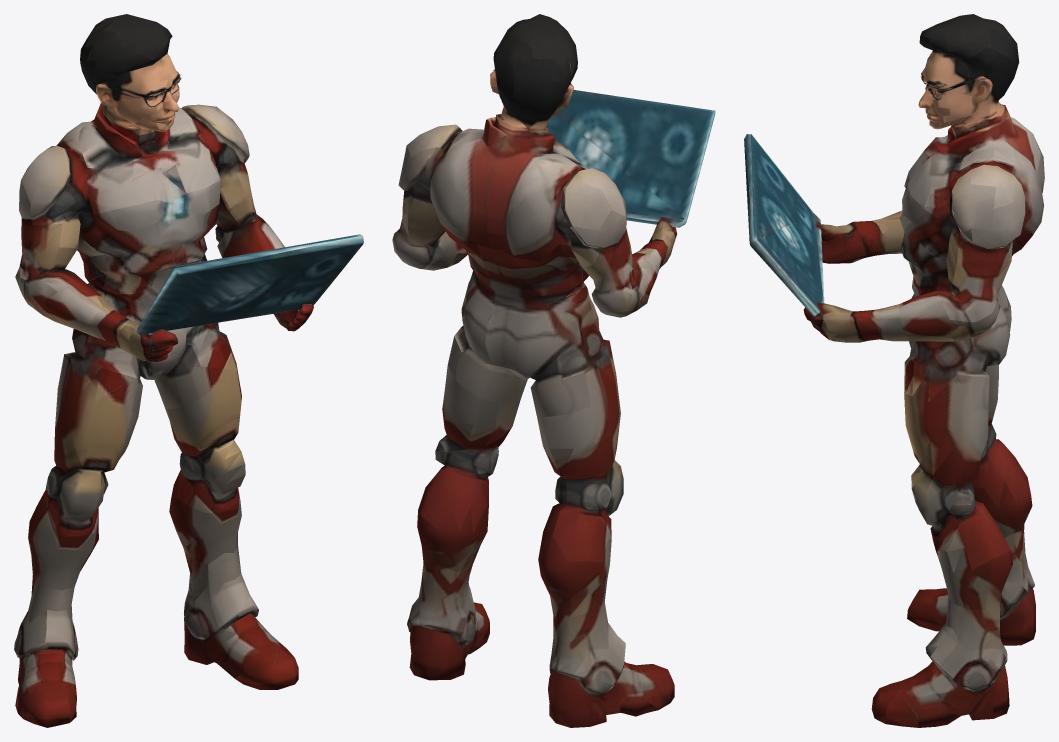
File: iron_เต้.glb
3 views of the same model, side by side, from view 1: azimuth 30°, elevation 25°; view 2: azimuth 150°, elevation 25°; view 3: azimuth 270°, elevation 25° (orthographic). The views are drawn at different scales.
Visible parts, largest first — view 1: mesh_node; view 2: mesh_node; view 3: mesh_node.
Part boxes in pixels (box(x1,y1,x2,y2)): mesh_node: box(14, 14, 363, 727); mesh_node: box(392, 14, 715, 727); mesh_node: box(744, 14, 1044, 727).
Bounding box in the file's own units: 0.4092 × 1 × 0.4238.
Materials: 1 (1 with a texture image).
